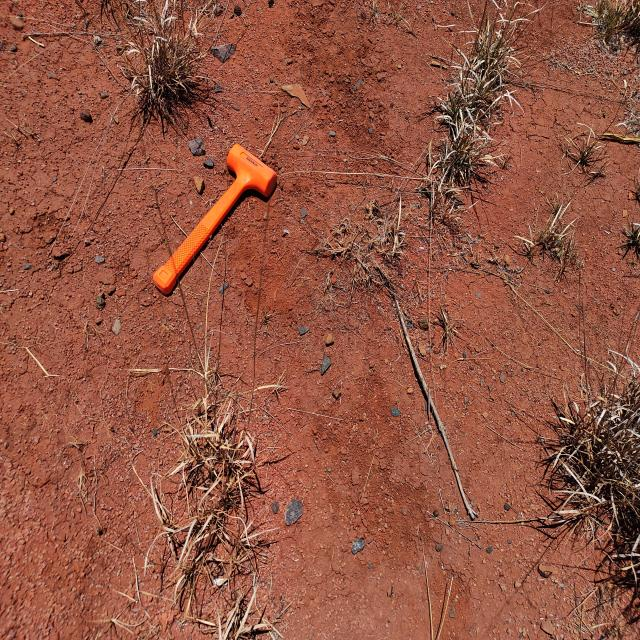Orange_hammer: (151, 142, 278, 296)
